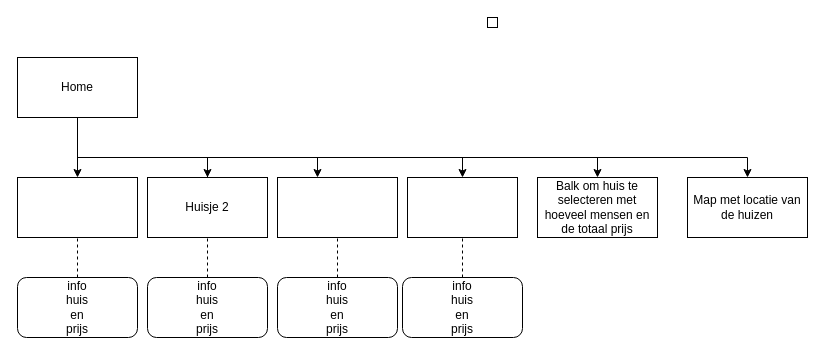
Some shapes in this 825 by 355 pixel diagram are drawn without their labels. Here are the shapes that lost their labels. From the top down, the centre of each, then its label:
point 77,207: Huisje 1
point 337,207: Huisje 3
point 462,207: Huisje 4
